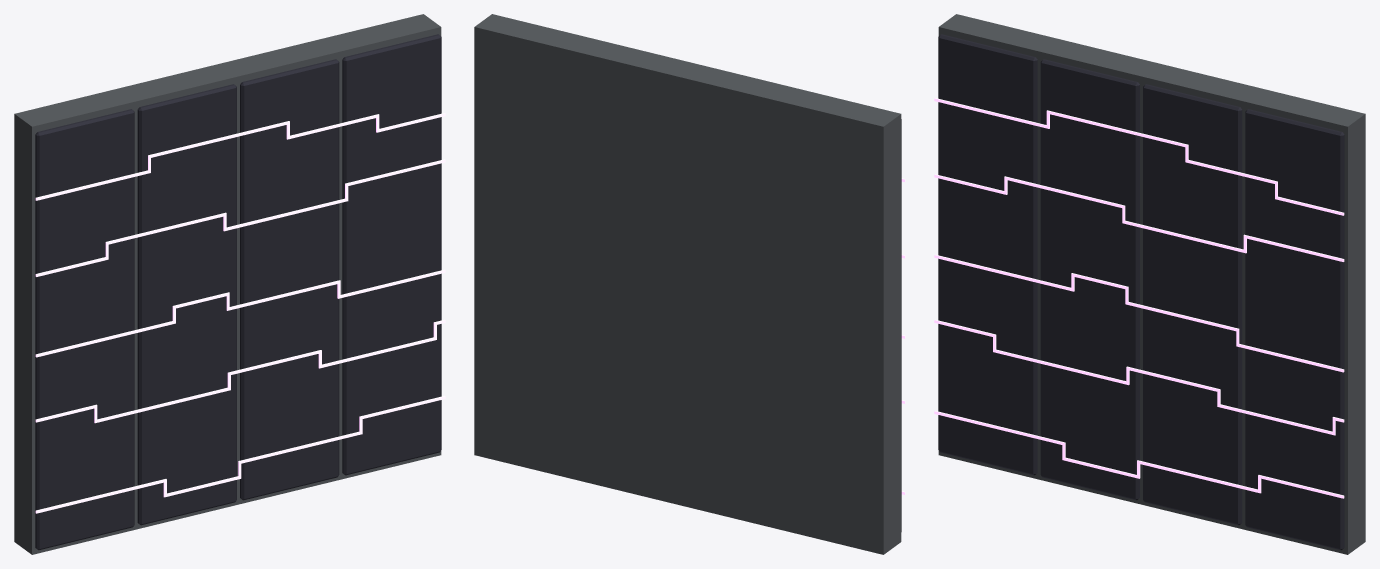
File: wall_an_core.glb
3 views of the same model, side by side, from view 1: azimuth 30°, elevation 25°; view 2: azimuth 150°, elevation 25°; view 3: azimuth 330°, elevation 25° (orthographic).
Parts seen in each view (by area): view 1: wall_an_core; view 2: wall_an_core; view 3: wall_an_core.
Part boxes in pixels (x1,y1,x2,y2): wall_an_core: (14,14,445,554); wall_an_core: (474,14,905,554); wall_an_core: (934,14,1365,554).
Bounding box in the file's own units: 4 × 4 × 0.372.
